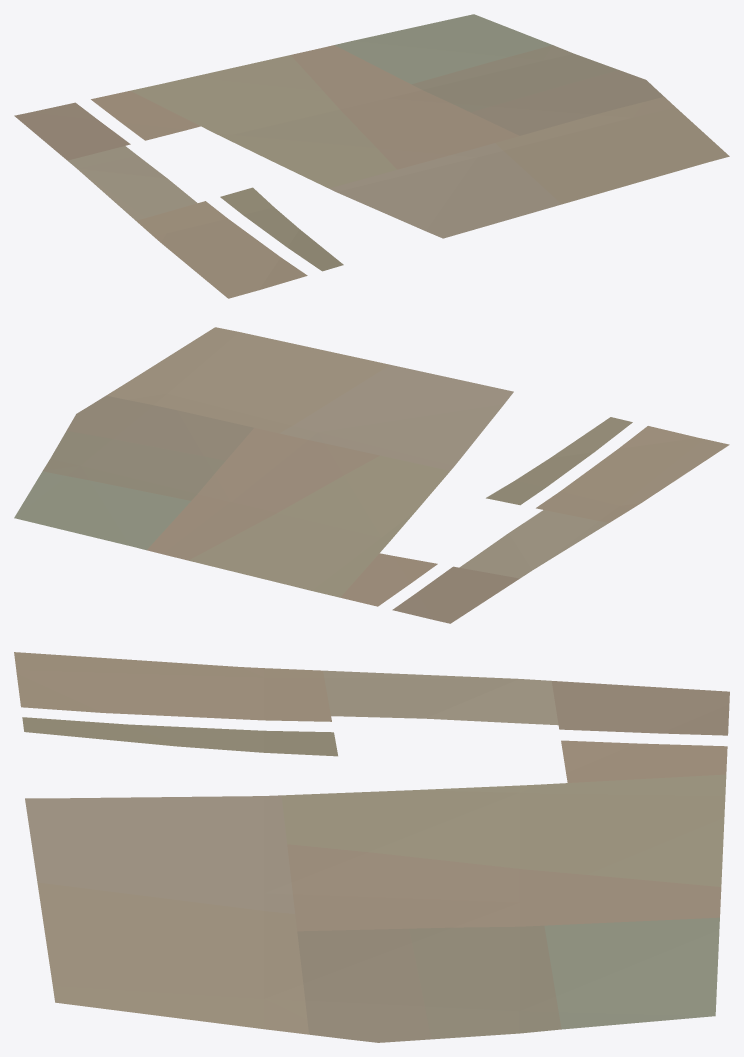
File: farm_8_17_soil.glb
3 renders of one model, top to bottom at view 1: azimuth 30°, elevation 25°; view 2: azimuth 150°, elevation 25°; view 3: azimuth 270°, elevation 25°, orthographic. The views are drawn at different scales.
Visible parts, largest first — view 1: geometry_0; view 2: geometry_0; view 3: geometry_0.
Part boxes in pixels (x1,y1,x2,y2): geometry_0: [14, 14, 729, 298]; geometry_0: [14, 327, 729, 623]; geometry_0: [14, 652, 729, 1042].
Size of the model in its own units: 281 by 10.62 by 224.
